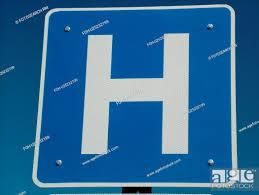Hospital: (58, 11, 217, 175)
